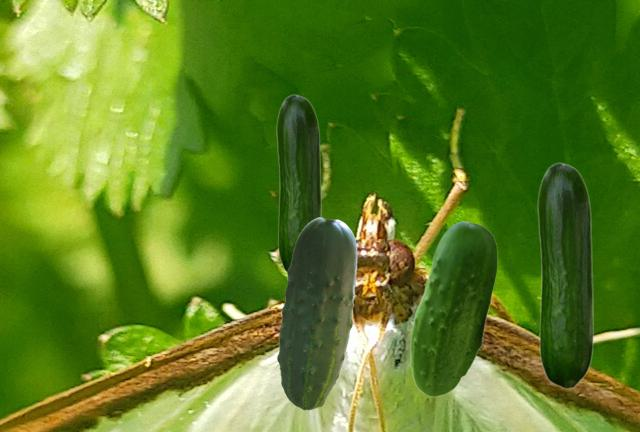cucumber: (277, 217, 356, 409), (410, 221, 496, 396), (537, 162, 593, 388), (276, 94, 321, 271)
